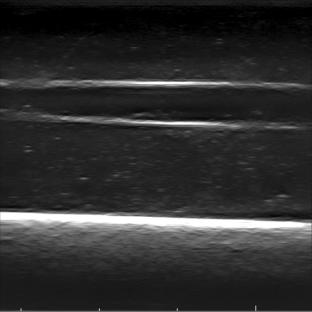vessel: (5, 79, 301, 128)
